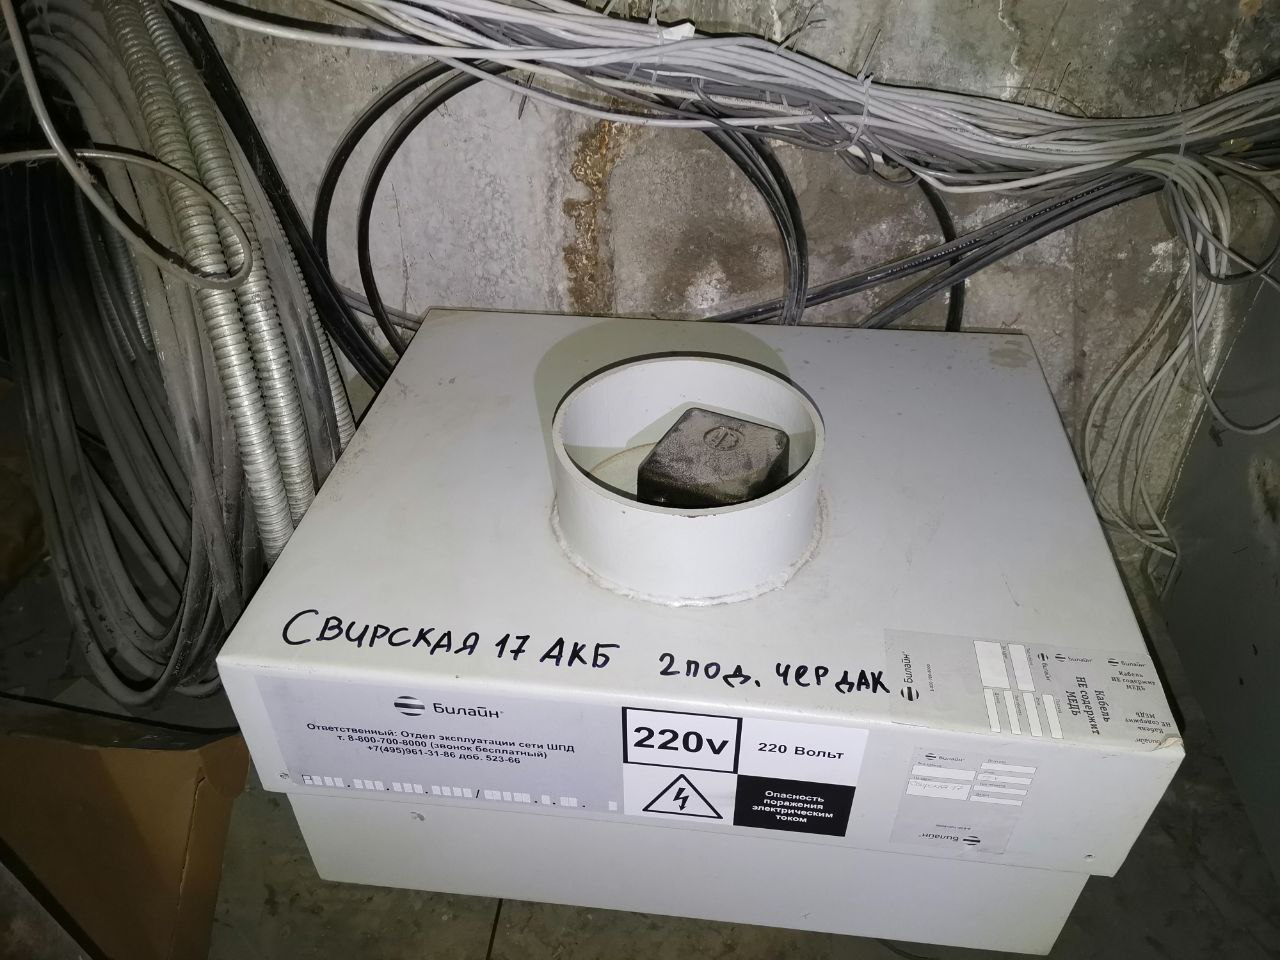shta-ps: (202, 301, 1197, 957)
